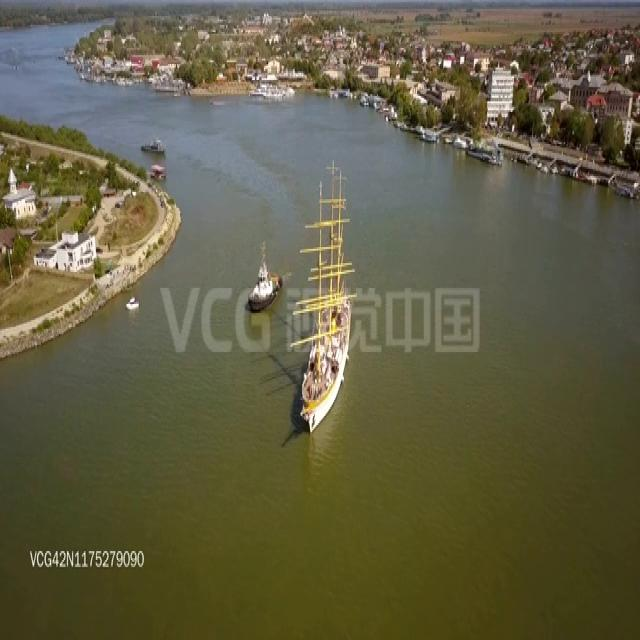houseboat: (248, 239, 282, 314), (140, 130, 164, 154), (148, 162, 166, 182), (125, 294, 141, 313)
sailboat: (298, 167, 357, 432)
